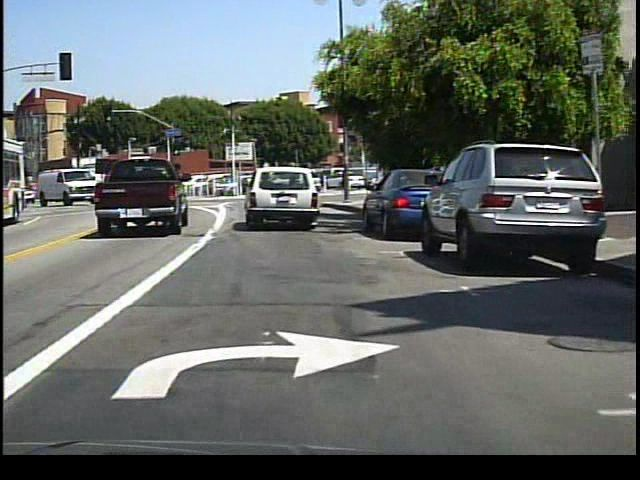person: (337, 169, 352, 199)
